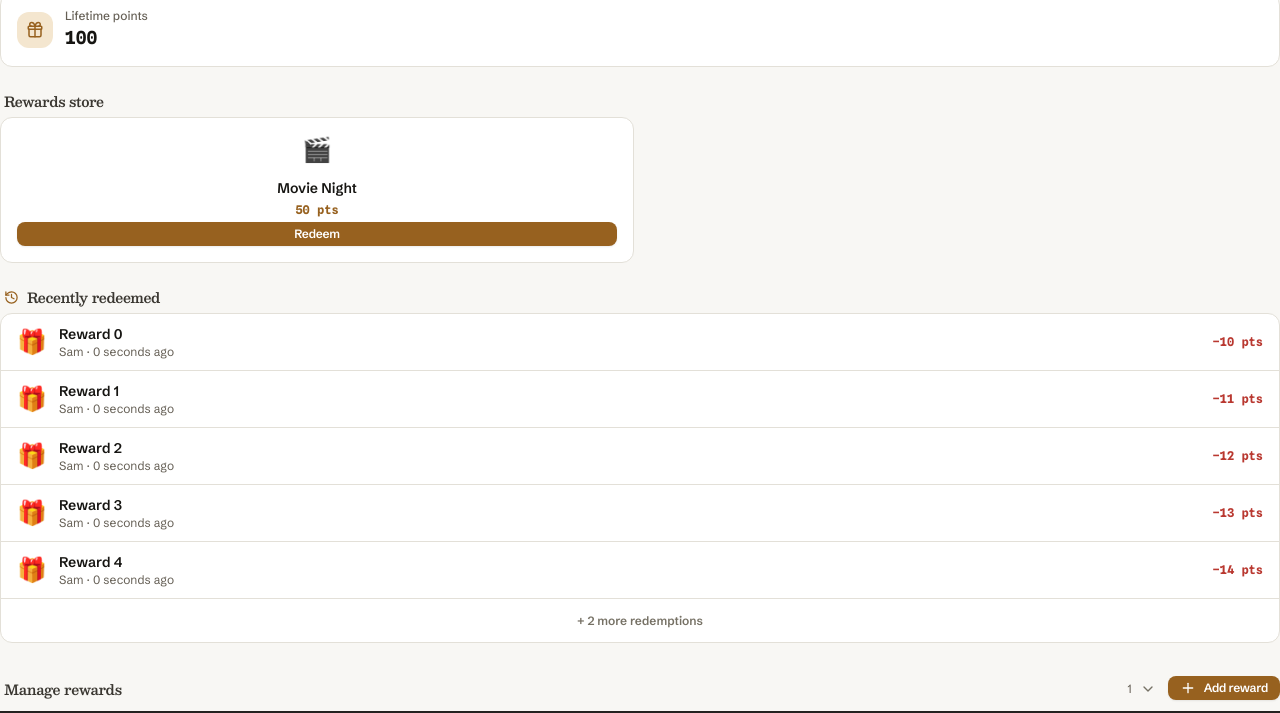
Test: HabitsRewardsTab — recently redeemed history › caps the visible history at 5 with a show-more row, and expanding reveals the rest
Expected: the text "Reward 0" is shown 5 times, [59,325,122,343]; [59,382,119,400]; [59,439,122,457]; [59,496,122,514]; [59,553,122,571]
Click the button "+ 2 more redemptions" at (640, 620), box [1,598,1279,642]
(page scrolled)
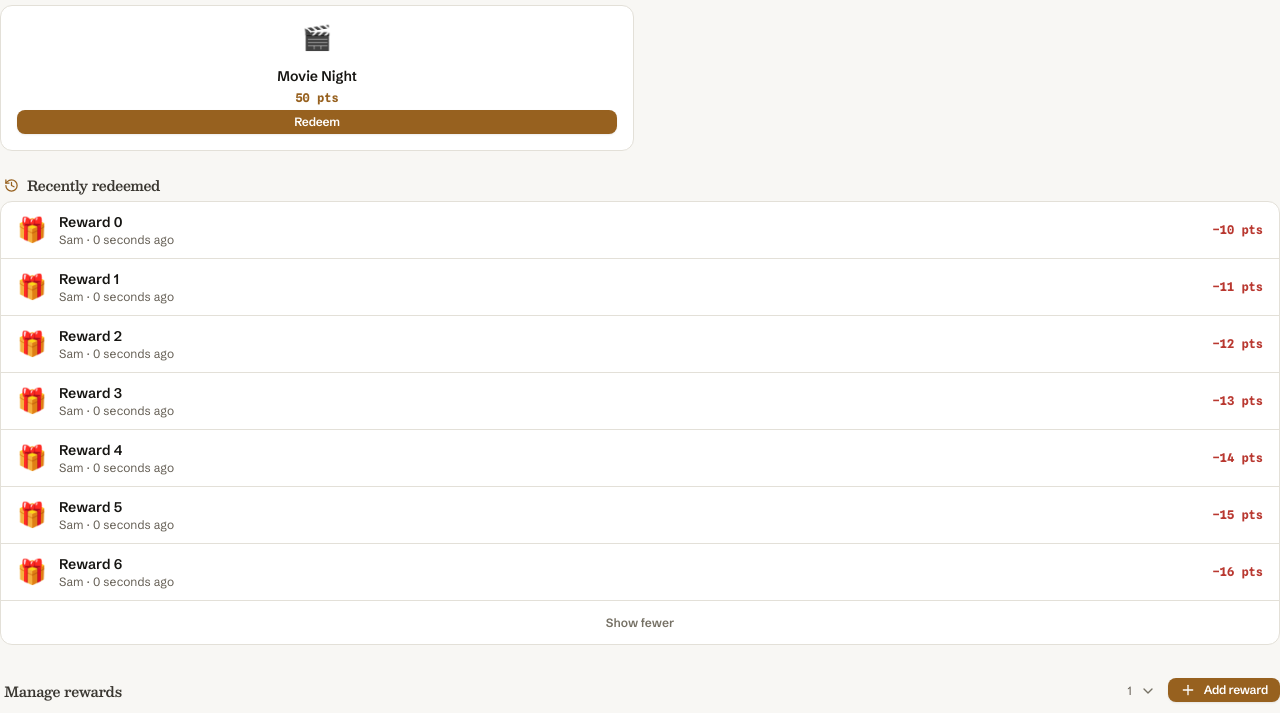
Expected: the text "Reward 0" is shown 7 times
Expected: the button "Show fewer" is expanded, [1,600,1279,644]
